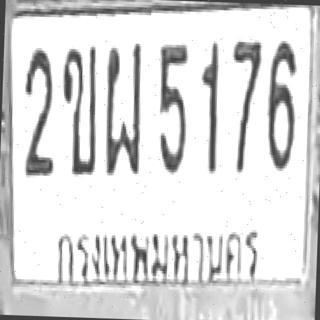A02: (58, 40, 99, 174)
A28: (101, 39, 145, 175)
N01: (196, 40, 221, 174)
N02: (20, 45, 57, 176)
N05: (154, 39, 189, 175)
N06: (264, 38, 298, 171)
N07: (227, 36, 262, 175)
P04: (47, 215, 267, 297)
